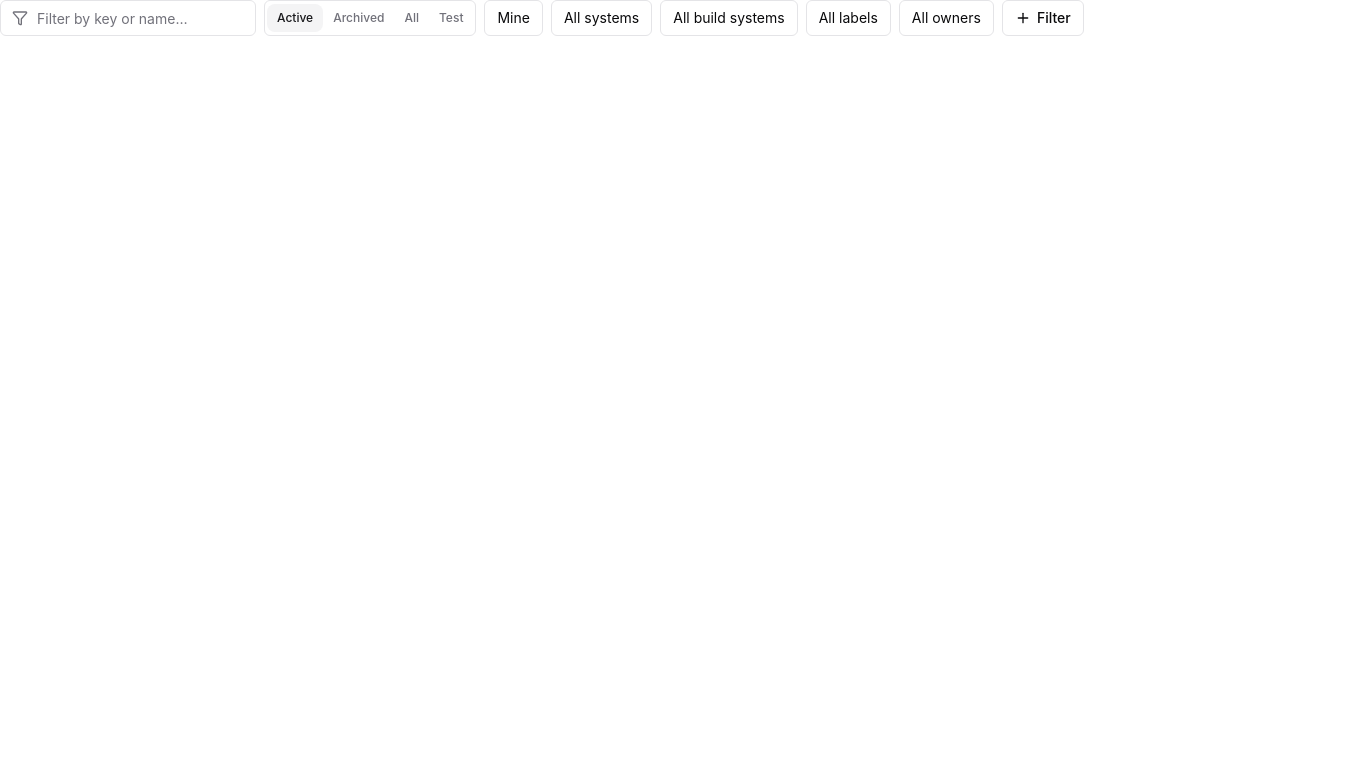
ComponentFilters "+ Filter" panel (extended dimensions) › lists every Extended dimension, grouped by topic
Click the button with aria-label "Add filter".
click(1043, 18)  # box [1002, 0, 1084, 36]
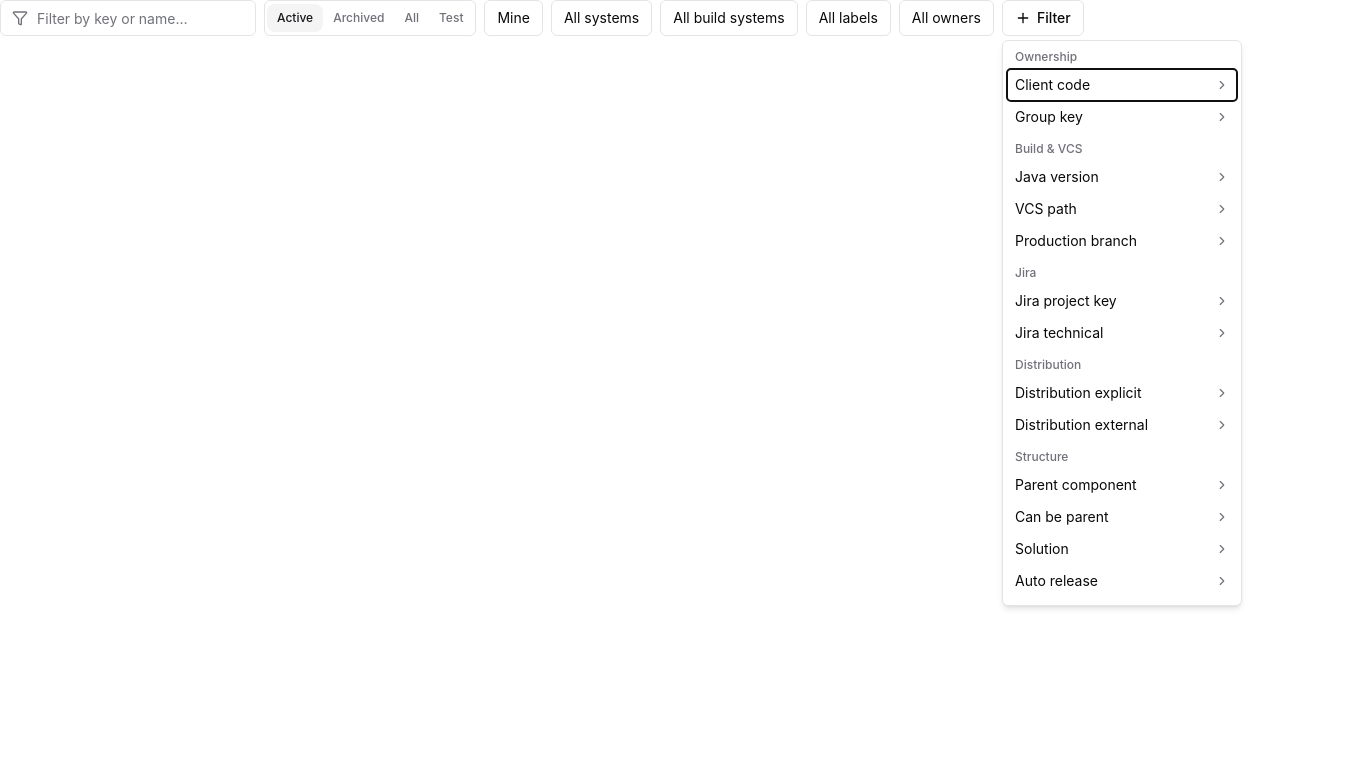
Now the button "Client code" is shown, box [1007, 69, 1237, 101]
Now the button "Jira project key" is shown, box [1007, 285, 1237, 317]
Now the button "Java version" is shown, box [1007, 161, 1237, 193]
